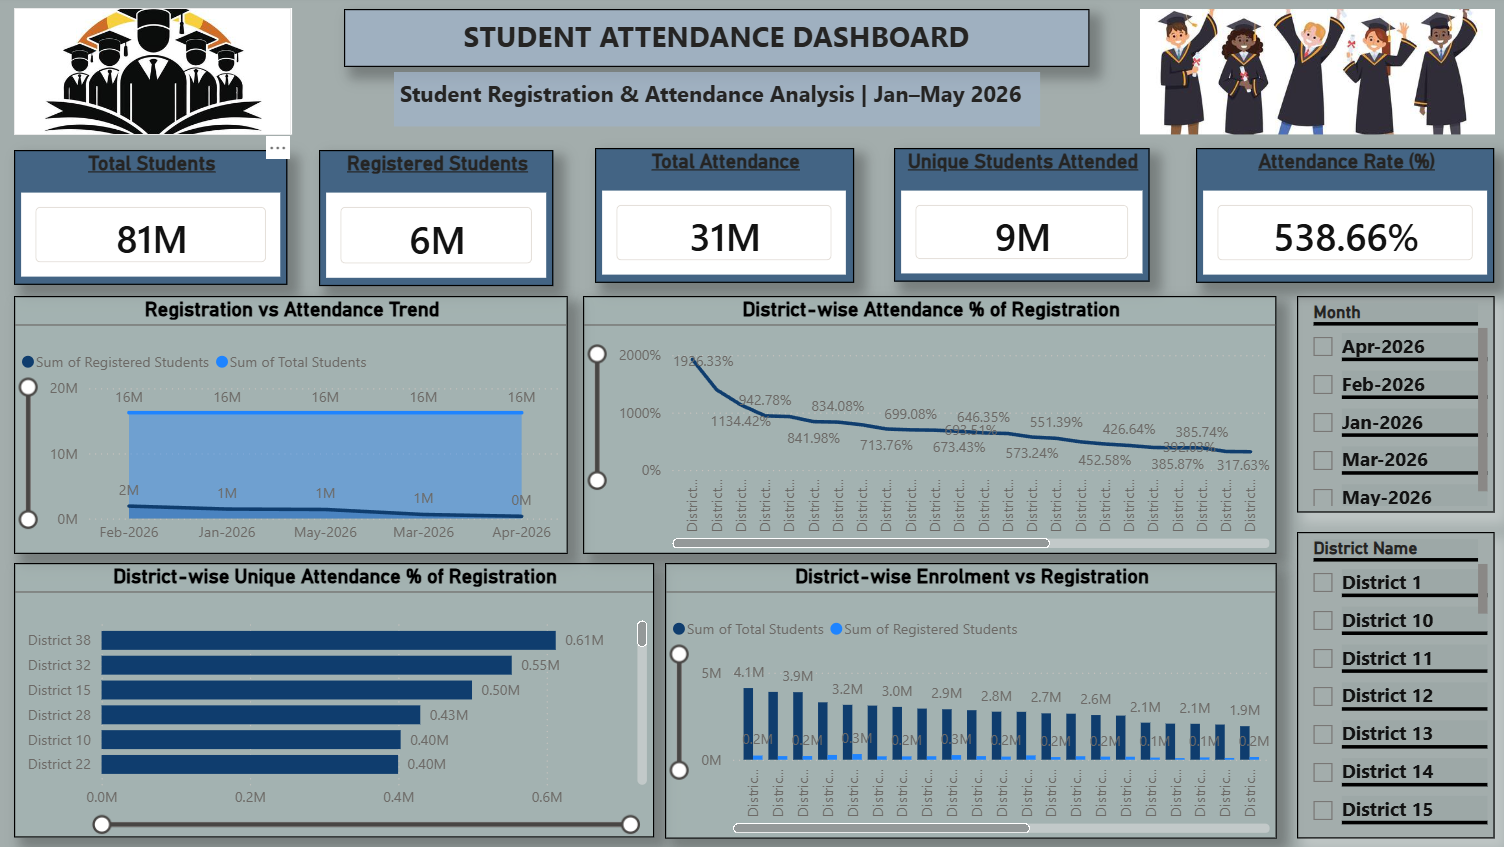

What the dashboard file says about the page in this screenshot:
{"tool":"powerbi","page":{"name":"Page 1","canvas":[1280,720],"ordinal":0},"visuals":[{"type":"cardVisual","title":"Total Students","fields":{"Data":["Student_Attendance_Clean.Total Students KPI"]},"box":[17.7,129.3,231,113.7],"z":0},{"type":"cardVisual","title":"Registered Students","fields":{"Data":["Student_Attendance_Clean.Registered Students KPI"]},"box":[275.8,129.6,198.4,114.6],"z":1000},{"type":"cardVisual","title":"Total Attendance","fields":{"Data":["Student_Attendance_Clean.Total Attendance KPI"]},"box":[508.7,127.8,218.9,113.7],"z":2000},{"type":"cardVisual","title":"Unique Students Attended","fields":{"Data":["Student_Attendance_Clean.Unique Attendance KPI"]},"box":[761.7,127.8,216.1,112.7],"z":3000},{"type":"cardVisual","title":"Attendance Rate (%)","fields":{"Data":["Student_Attendance_Clean.Attendance Rate KPI"]},"box":[1016.5,127.8,252.5,113.7],"z":4000},{"type":"textbox","box":[296.8,10.5,629.6,49],"z":5000},{"type":"lineChart","title":"District-wise Attendance % of Registration","fields":{"Category":["Student_Attendance_Clean.District Name"],"Y":["Student_Attendance_Clean.Attendance Rate KPI"]},"box":[498.6,252.7,586.5,218],"z":6000},{"type":"lineChart","title":"Registration vs Attendance Trend","fields":{"Category":["Student_Attendance_Clean.Month"],"Y":["Sum(Student_Attendance_Clean.Registered Students)","Sum(Student_Attendance_Clean.Total Students)"]},"box":[17.7,252.7,468.2,218],"z":7000},{"type":"barChart","title":"District-wise Unique Attendance % of Registration","fields":{"Category":["Student_Attendance_Clean.District Name"],"Y":["Student_Attendance_Clean.Unique Attendance KPI"]},"box":[17.7,478.3,540.8,232.4],"z":8000},{"type":"slicer","fields":{"Values":["Student_Attendance_Clean.Month"]},"box":[1102,252.7,167.3,183.4],"z":9000},{"type":"slicer","fields":{"Values":["Student_Attendance_Clean.District Name"]},"box":[1102,452.1,167.3,259.4],"z":10000},{"type":"textbox","box":[338.6,63.7,545.5,45.6],"z":11000},{"type":"image","box":[17.5,9.6,234.6,106.8],"z":12000},{"type":"image","box":[969.3,10.1,300,106.5],"z":13000},{"type":"clusteredColumnChart","title":"District-wise Enrolment vs Registration","fields":{"Category":["Student_Attendance_Clean.District Name"],"Y":["Sum(Student_Attendance_Clean.Total Students)","Sum(Student_Attendance_Clean.Registered Students)"]},"box":[567.9,478.3,517.2,233.2],"z":14000}]}

Visuals, with their boxes in screenshot pixels (x1, y1, x2, y2), scaled from the page's 1280x720 canvas onto the 1504x847 screenshot:
"Total Students" cardVisual: <bbox>21, 152, 292, 286</bbox>
"Registered Students" cardVisual: <bbox>324, 152, 557, 287</bbox>
"Total Attendance" cardVisual: <bbox>598, 150, 855, 284</bbox>
"Unique Students Attended" cardVisual: <bbox>895, 150, 1149, 283</bbox>
"Attendance Rate (%)" cardVisual: <bbox>1194, 150, 1491, 284</bbox>
textbox: <bbox>349, 12, 1089, 70</bbox>
"District-wise Attendance % of Registration" lineChart: <bbox>586, 297, 1275, 554</bbox>
"Registration vs Attendance Trend" lineChart: <bbox>21, 297, 571, 554</bbox>
"District-wise Unique Attendance % of Registration" barChart: <bbox>21, 563, 656, 836</bbox>
slicer - Student_Attendance_Clean.Month: <bbox>1295, 297, 1491, 513</bbox>
slicer - Student_Attendance_Clean.District Name: <bbox>1295, 532, 1491, 837</bbox>
textbox: <bbox>398, 75, 1039, 129</bbox>
image: <bbox>21, 11, 296, 137</bbox>
image: <bbox>1139, 12, 1491, 137</bbox>
"District-wise Enrolment vs Registration" clusteredColumnChart: <bbox>667, 563, 1275, 837</bbox>
